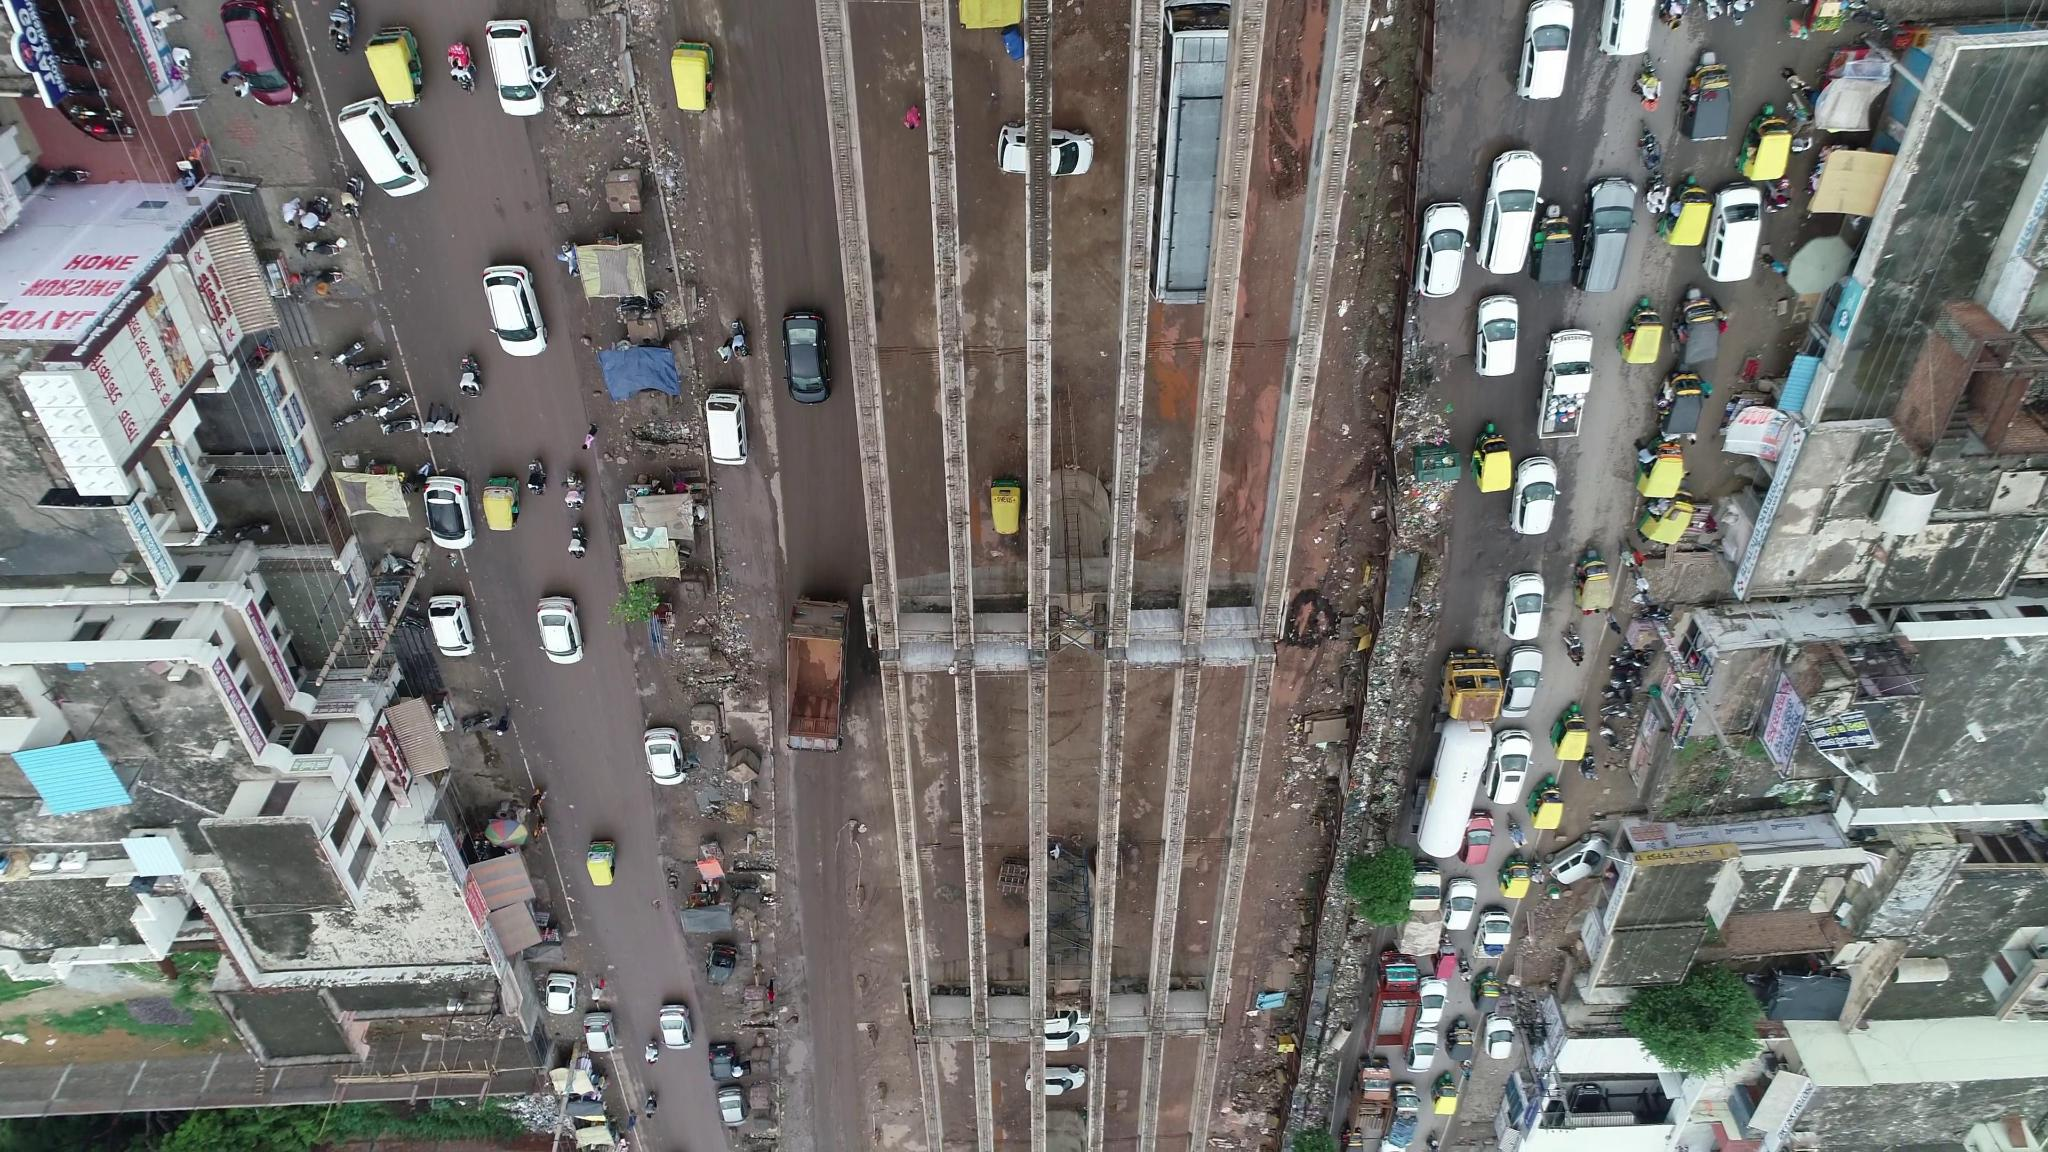Potholes: (1478, 535, 1574, 571)
Road_side_garbage: (1362, 622, 1423, 785)
